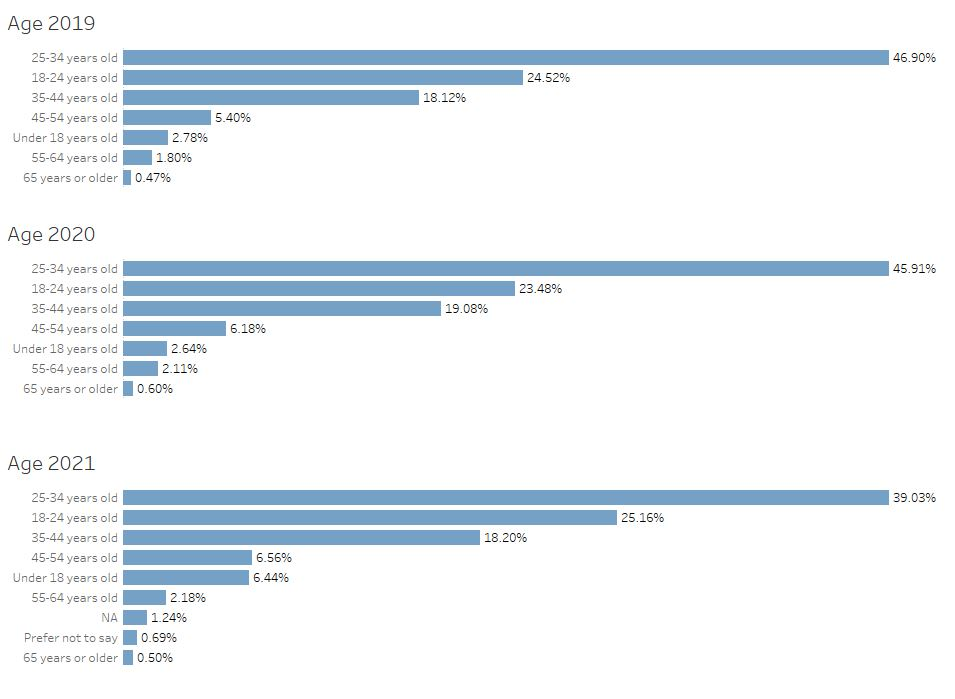

This screenshot's page, from the dashboard's own definition file:
{"tool":"tableau","page":{"name":"How old are our respondents? How has it varied over the years ?","canvas":[1000,800],"ordinal":1},"visuals":[{"type":"worksheet","title":"Age 2019","mark":"Automatic","rows":["Calculation_1312236357078663168"],"cols":["Age"],"box":[8,8,984,211]},{"type":"worksheet","title":"Age 2020","mark":"Automatic","rows":["Calculation_1312236357083004929"],"cols":["Age"],"box":[8,219,984,229]},{"type":"worksheet","title":"Age 2021","mark":"Automatic","rows":["Age"],"cols":["Age"],"box":[8,448,984,344]}]}

Visuals, with their boxes on the page's 1000x800 design canvas (x1, y1, x2, y2). These are canvas units, not pixel positions in the 955x699 screenshot, which may show the page scaled, cropped or inside an application window:
"Age 2019" worksheet: (left=8, top=8, right=992, bottom=219)
"Age 2020" worksheet: (left=8, top=219, right=992, bottom=448)
"Age 2021" worksheet: (left=8, top=448, right=992, bottom=792)
